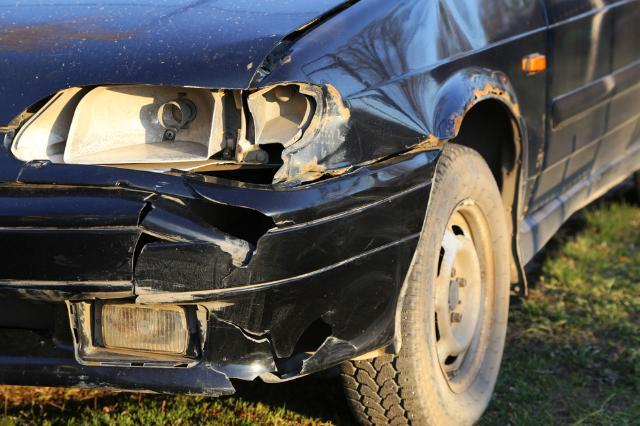Bumper: (86, 180, 400, 383)
Fender: (301, 0, 523, 120)
Light: (24, 80, 308, 170)
